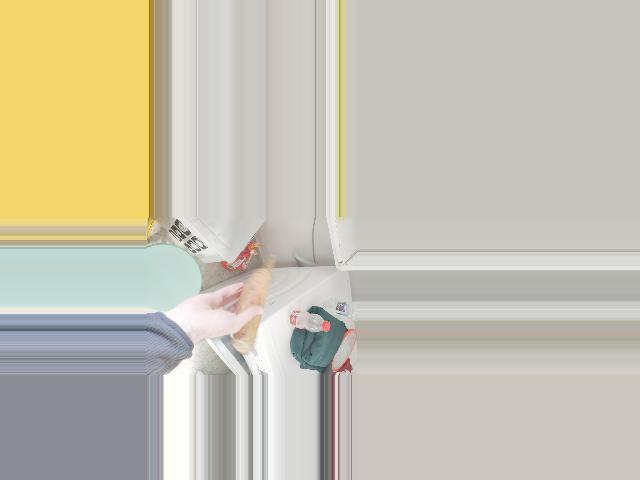sweet_potato: (228, 257, 279, 348)
